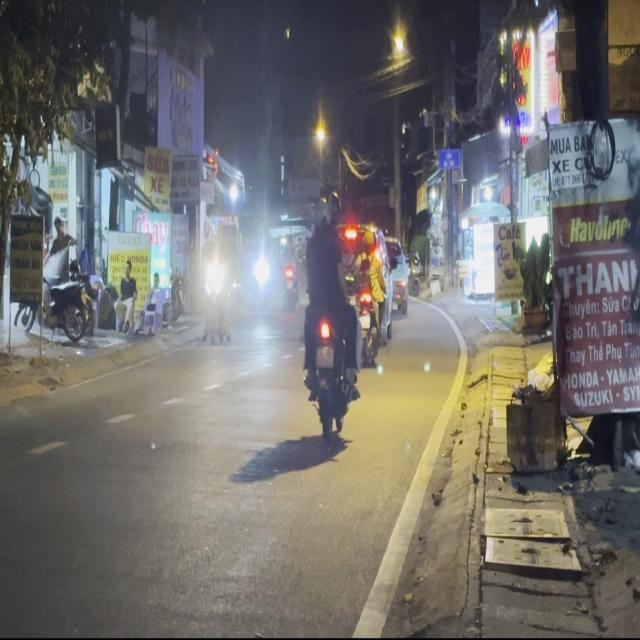helmet: (325, 190, 346, 232), (312, 196, 329, 232)
licenseplate: (298, 190, 362, 443)
nohelmet: (316, 346, 334, 367)
